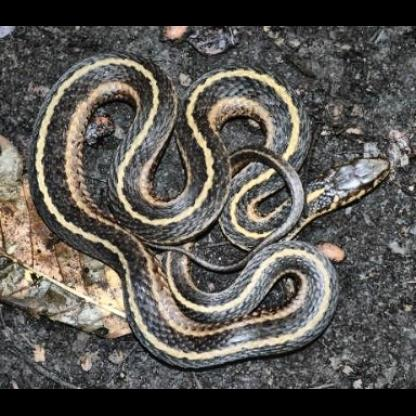Snake: (31, 49, 388, 371)
